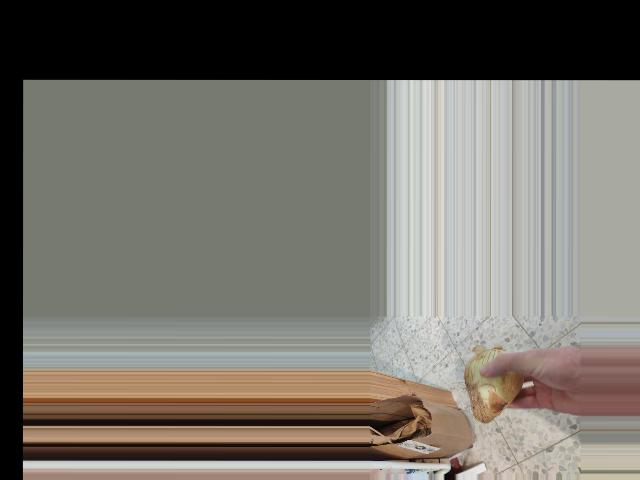onion: (456, 344, 528, 419)
